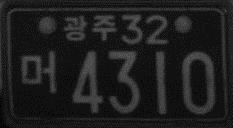0: (181, 50, 215, 115)
1: (153, 49, 168, 117)
2: (144, 14, 170, 45)
3: (108, 49, 140, 114), (120, 12, 143, 45)
4: (70, 48, 104, 115)
광주_O: (62, 13, 116, 44)
머: (20, 47, 56, 97)
